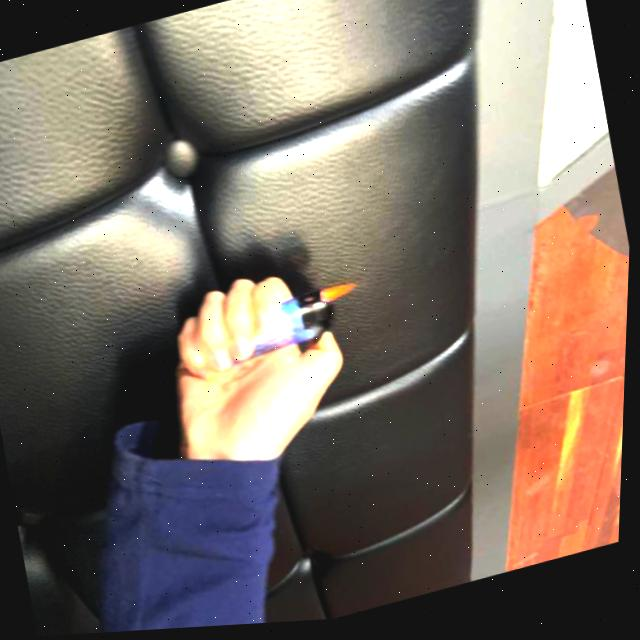Fire: (318, 281, 363, 308)
